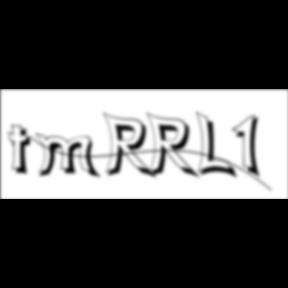1: (232, 114, 266, 182)
L: (196, 110, 240, 182)
R: (102, 112, 160, 182), (145, 112, 202, 182)
m: (35, 132, 103, 181)
t: (7, 124, 38, 179)
